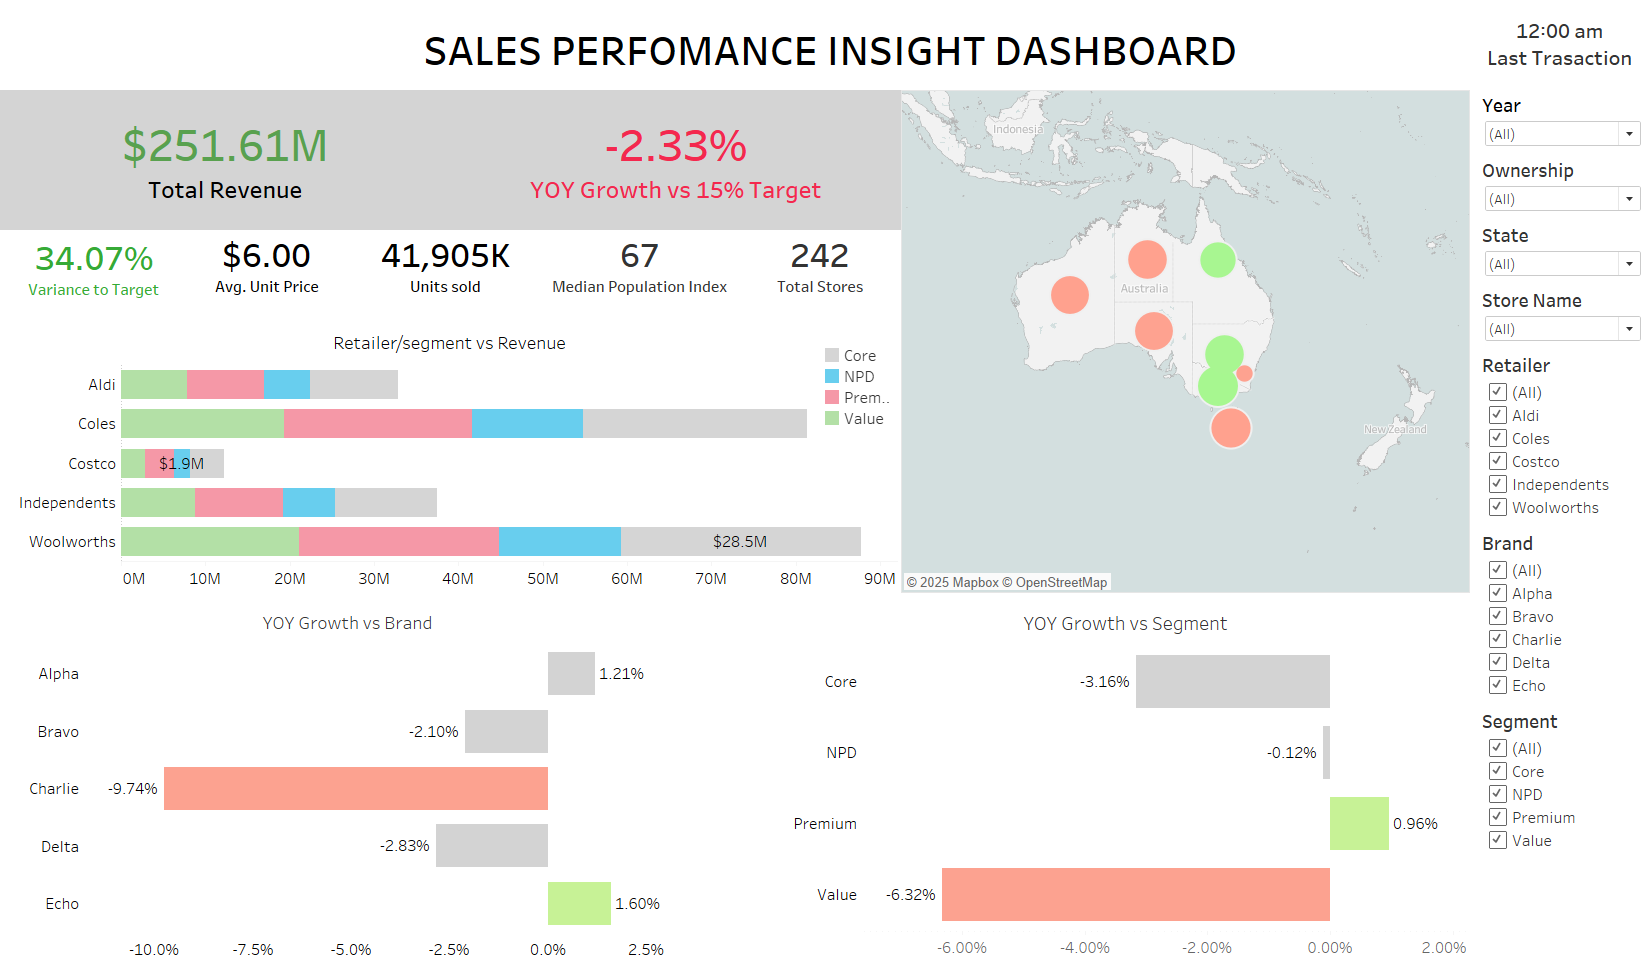

This screenshot's page, from the dashboard's own definition file:
{"tool":"tableau","page":{"name":"RETAIL SALES DASHBOARD","canvas":[1000,1000],"units":"permille","ordinal":0},"visuals":[{"type":"blank","box":[1.2,5.2,996.3,89.6]},{"type":"worksheet","title":"Sheet 13","mark":"Automatic","box":[891.8,11.3,102.1,75.2]},{"type":"text","box":[231.8,25.8,541.3,54.6]},{"type":"filter","title":"KPIs","param":"[federated.1cnvq9q1x002tu1dr7mv60f1vdxf].[yr:Date:ok]","box":[893.2,93.7,102.3,66.9]},{"type":"worksheet","title":"KPIs","mark":"Text","box":[1.2,95.8,272.3,144.2]},{"type":"worksheet","title":"yoy vs 15% tar","mark":"Automatic","box":[273.2,95.8,272,144.2]},{"type":"worksheet","title":"Map1","mark":"Automatic","box":[545.2,95.8,343.5,518]},{"type":"filter","title":"KPIs","param":"[federated.1cnvq9q1x002tu1dr7mv60f1vdxf].[none:Ownership:nk]","box":[893.2,160.7,102.3,66.9]},{"type":"filter","title":"KPIs","param":"[federated.1cnvq9q1x002tu1dr7mv60f1vdxf].[none:State:nk]","box":[893.2,227.6,102.3,66.9]},{"type":"worksheet","title":"Variance to target","mark":"Automatic","box":[1.9,241,117.5,92.7]},{"type":"worksheet","title":"Top","mark":"Automatic","box":[116.1,241,93.5,69]},{"type":"worksheet","title":"Total Units","mark":"Automatic","box":[223.1,241,93.5,69]},{"type":"worksheet","title":"Total population","mark":"Automatic","box":[329.5,241,116.1,69]},{"type":"worksheet","title":"Sheet 12","mark":"Automatic","box":[449.9,241,93.5,69]},{"type":"filter","title":"KPIs","param":"[federated.1cnvq9q1x002tu1dr7mv60f1vdxf].[none:Store Name:nk]","box":[893.2,294.5,102.3,66.9]},{"type":"worksheet","title":"Retailer vs revenue","mark":"Automatic","rows":["Retailer (Stores!Dim)"],"cols":["Revenue"],"box":[1.9,338.8,541.4,275]},{"type":"filter","title":"KPIs","param":"[federated.1cnvq9q1x002tu1dr7mv60f1vdxf].[none:Retailer:nk]","box":[893.2,361.5,102.3,183.3]},{"type":"filter","title":"KPIs","param":"[federated.1cnvq9q1x002tu1dr7mv60f1vdxf].[none:Brand:nk]","box":[893.2,544.8,102.3,183.3]},{"type":"worksheet","title":"yoy vs brand","mark":"Automatic","rows":["Brand"],"cols":["Calculation_952792798904049678"],"box":[3.7,627.2,414.4,364.6]},{"type":"worksheet","title":"Seg vs yoy","mark":"Automatic","rows":["Segment"],"cols":["Calculation_952792798904049678"],"box":[473.1,627.2,414.4,364.6]},{"type":"filter","title":"KPIs","param":"[federated.1cnvq9q1x002tu1dr7mv60f1vdxf].[none:Segment:nk]","box":[893.2,728.1,102.3,159.6]}]}

Visuals, with their boxes on the dashboard's canvas, which has no fixed pixel size, in thousandths of its width and height (x1, y1, x2, y2). These are canvas units, not pixel positions in the 1649x967 screenshot, which may show the page scaled, cropped or inside an application window:
blank: select_region(1, 5, 998, 95)
"Sheet 13" worksheet: select_region(892, 11, 994, 86)
text: select_region(232, 26, 773, 80)
"KPIs" filter: select_region(893, 94, 996, 161)
"KPIs" worksheet (Text marks): select_region(1, 96, 274, 240)
"yoy vs 15% tar" worksheet: select_region(273, 96, 545, 240)
"Map1" worksheet: select_region(545, 96, 889, 614)
"KPIs" filter: select_region(893, 161, 996, 228)
"KPIs" filter: select_region(893, 228, 996, 294)
"Variance to target" worksheet: select_region(2, 241, 119, 334)
"Top" worksheet: select_region(116, 241, 210, 310)
"Total Units" worksheet: select_region(223, 241, 317, 310)
"Total population" worksheet: select_region(330, 241, 446, 310)
"Sheet 12" worksheet: select_region(450, 241, 543, 310)
"KPIs" filter: select_region(893, 294, 996, 361)
"Retailer vs revenue" worksheet: select_region(2, 339, 543, 614)
"KPIs" filter: select_region(893, 362, 996, 545)
"KPIs" filter: select_region(893, 545, 996, 728)
"yoy vs brand" worksheet: select_region(4, 627, 418, 992)
"Seg vs yoy" worksheet: select_region(473, 627, 888, 992)
"KPIs" filter: select_region(893, 728, 996, 888)
